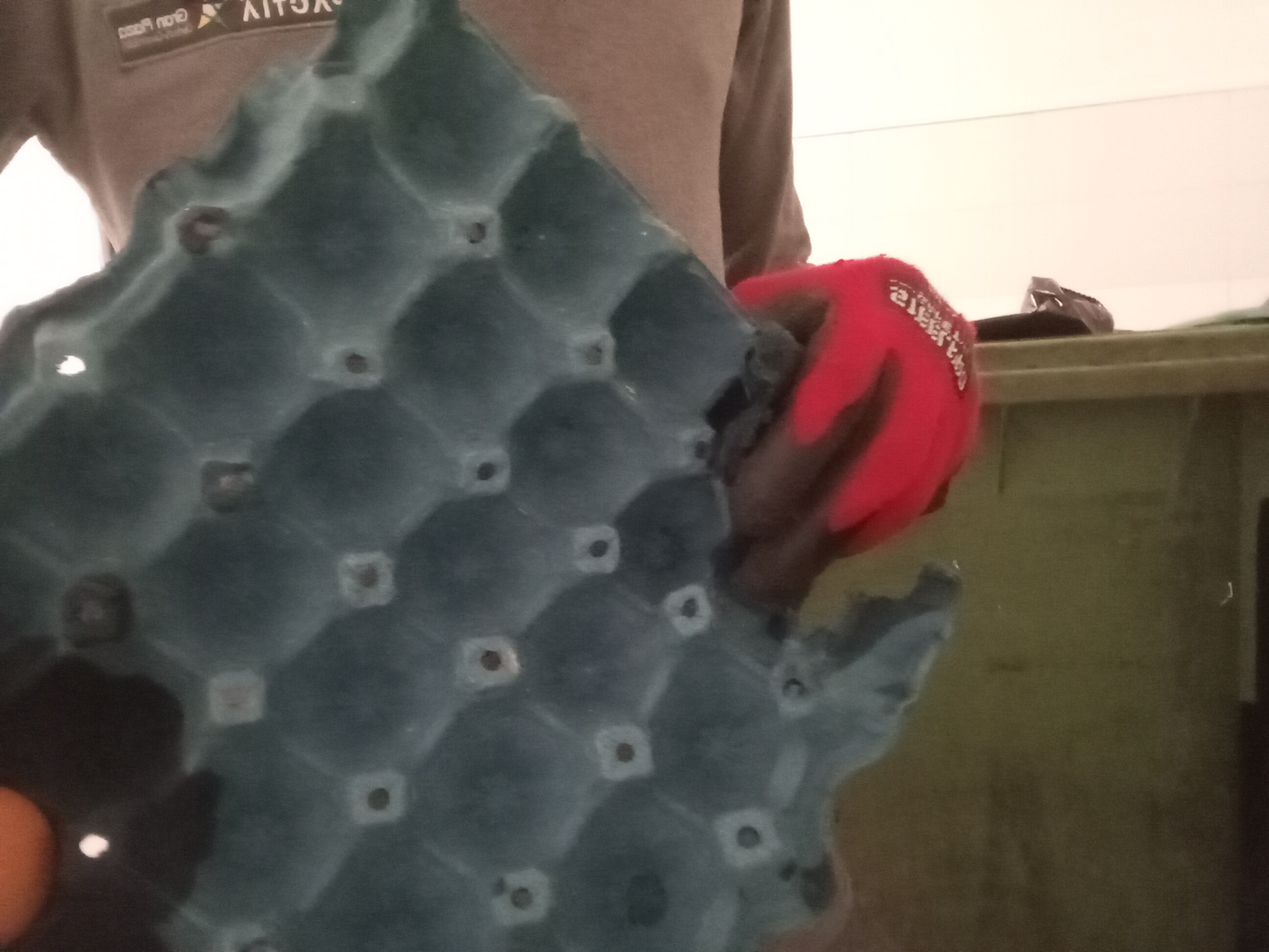Carton: (0, 0, 958, 952)
